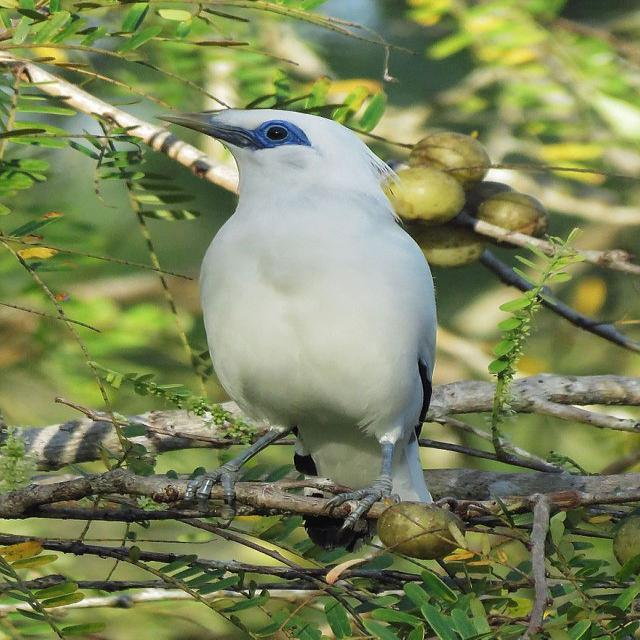Jalak Bali: (142, 90, 503, 564)
